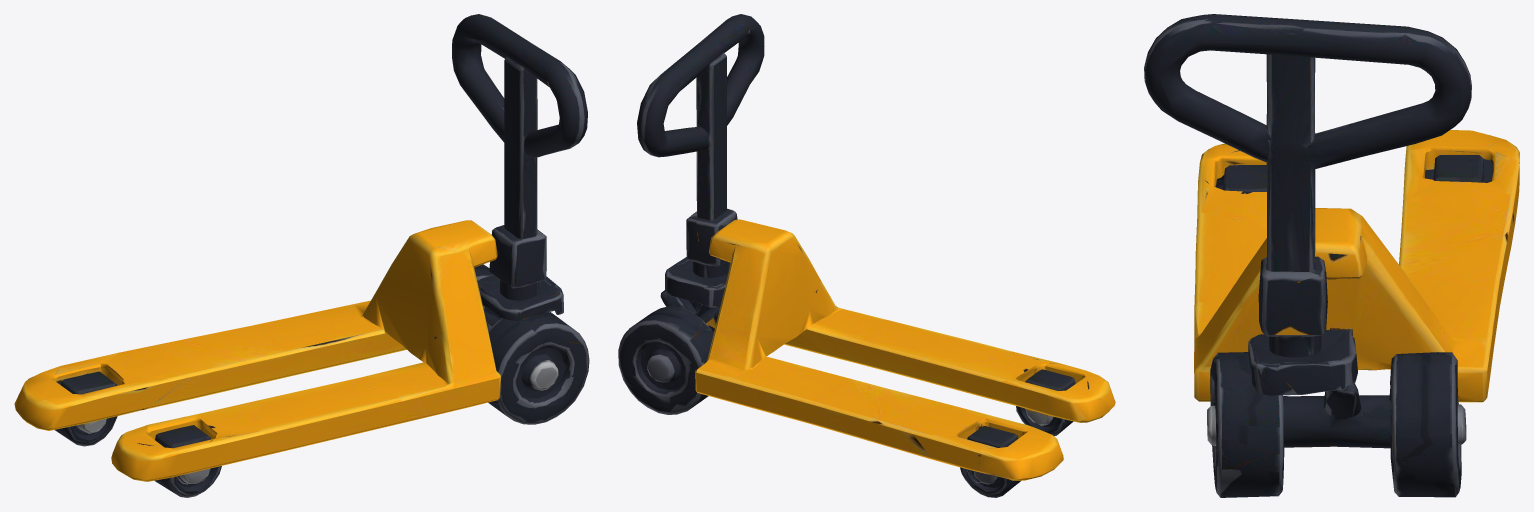
Rendered from pallet-jack.glb.
3 renders of one model, left to right at view 1: azimuth 30°, elevation 25°; view 2: azimuth 150°, elevation 25°; view 3: azimuth 270°, elevation 25°, orthographic. The views are drawn at different scales.
Parts seen in each view (by area): view 1: pallet-jack; view 2: pallet-jack; view 3: pallet-jack.
Part boxes in pixels (x1,y1,x2,y2): pallet-jack: (14, 14, 589, 497); pallet-jack: (618, 14, 1115, 497); pallet-jack: (1144, 14, 1519, 497).
Bounding box in the file's own units: 1 × 0.7212 × 0.5086.
Materials: 1 (1 with a texture image).
